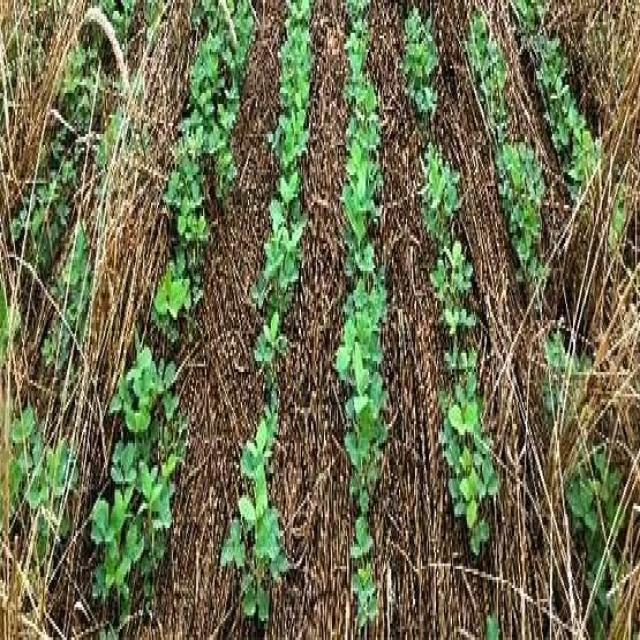row: (0, 1, 205, 640), (430, 1, 606, 640), (123, 4, 286, 639), (488, 0, 640, 558), (373, 0, 476, 640), (269, 4, 351, 640), (547, 2, 640, 229)
